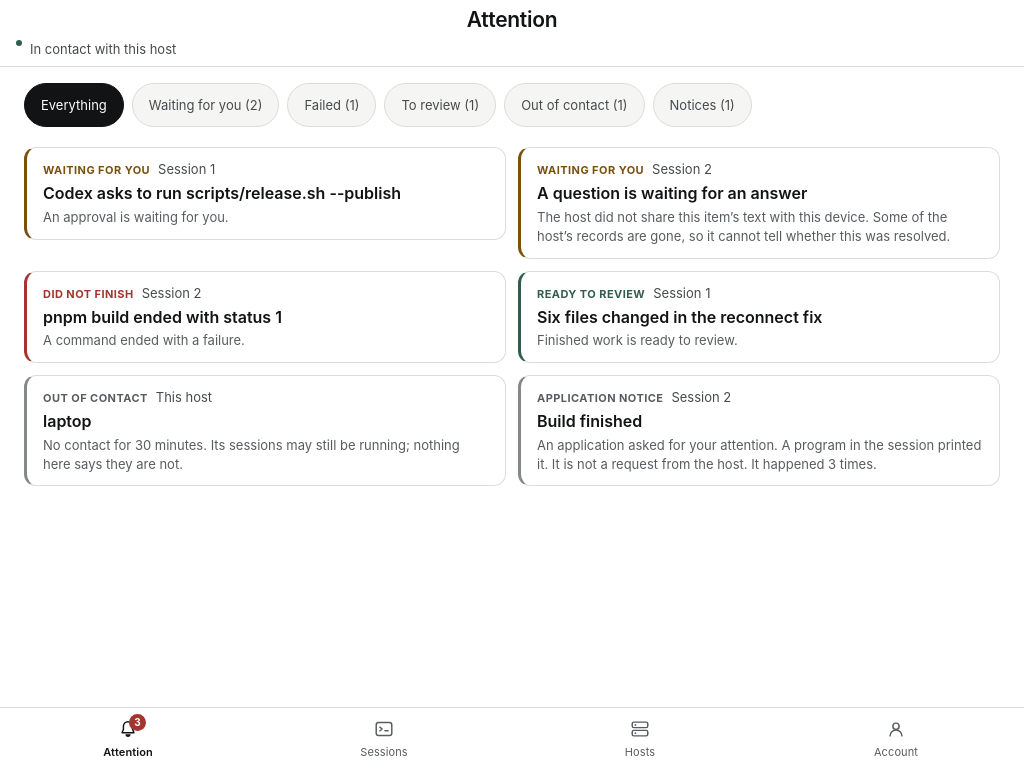
it: a draft that came back is bound again when the host has said where it stands (KR-ACC-012) › keeps what was typed while the host was being asked
The width and height of the screenshot is (1024, 768).
Step 1. Click the button "Sessions" → click(384, 738), box [256, 708, 512, 767]
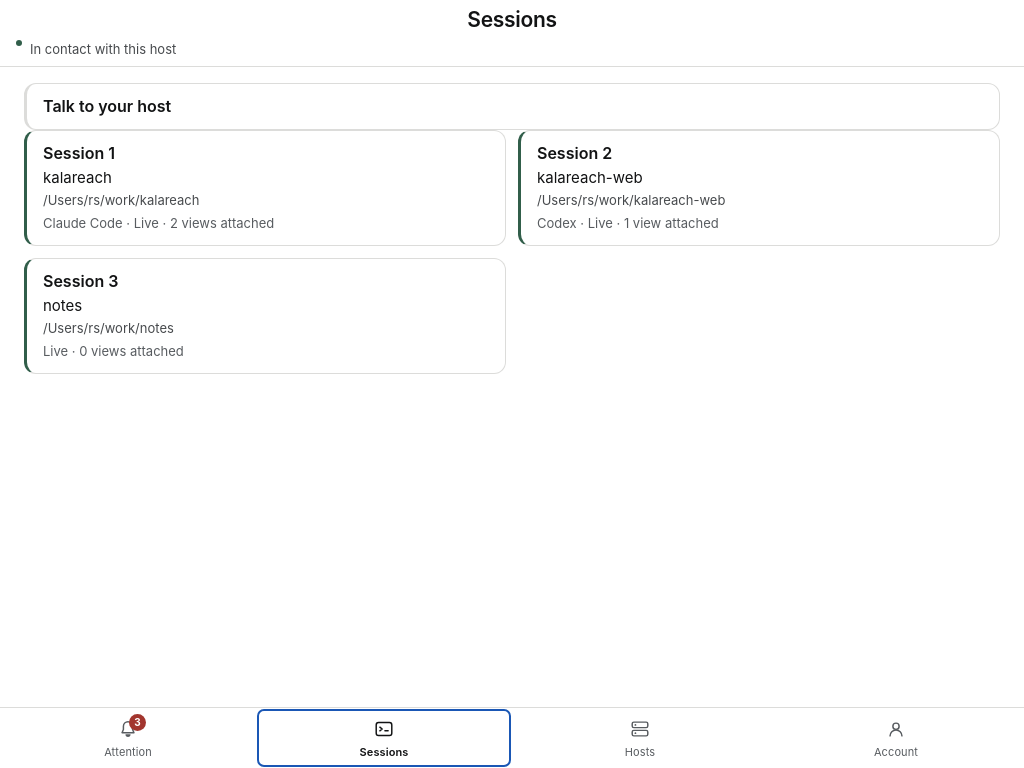
Step 2. Click the button "Session 1" → click(79, 153), box [24, 130, 506, 246]
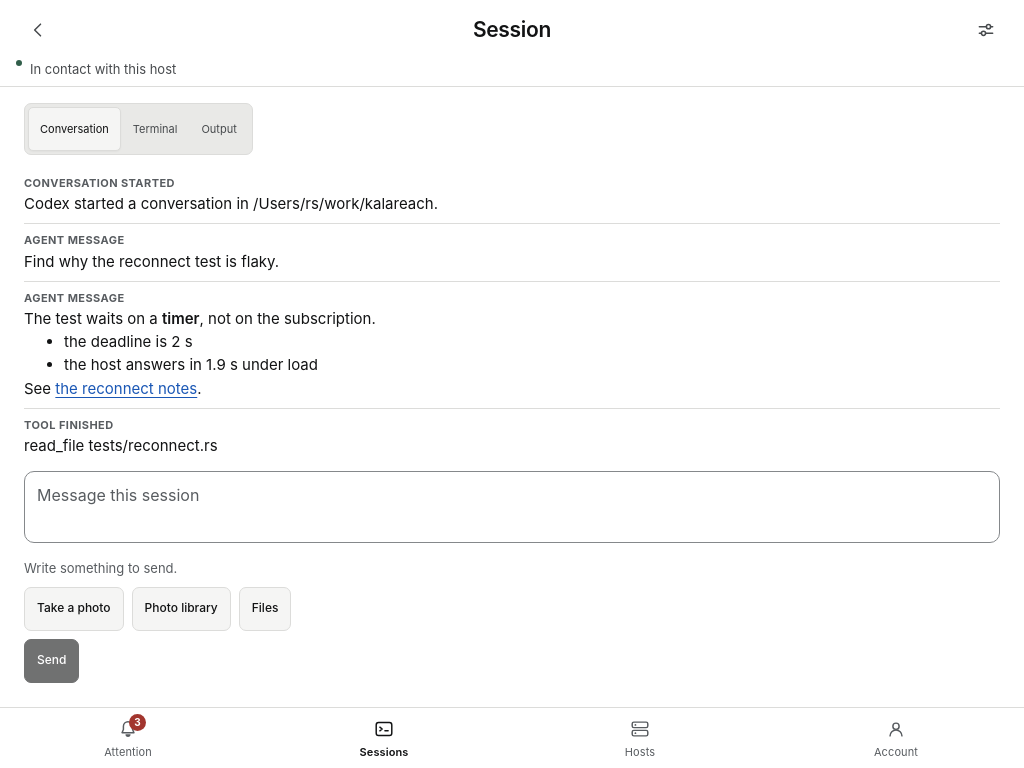
Step 3. Type "before" into the text box labelled "Message this session" → (512, 507), box [24, 471, 1000, 543]
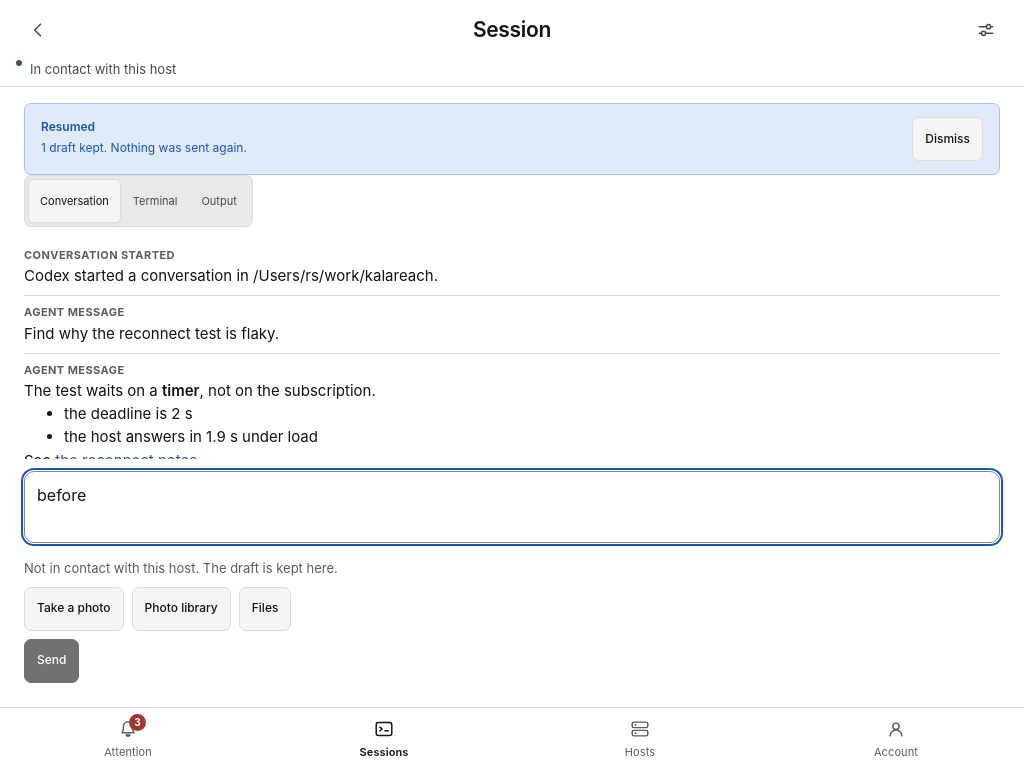
Step 4. Type " and after" into the text box named "Message this session" → (512, 507), box [24, 471, 1000, 543]
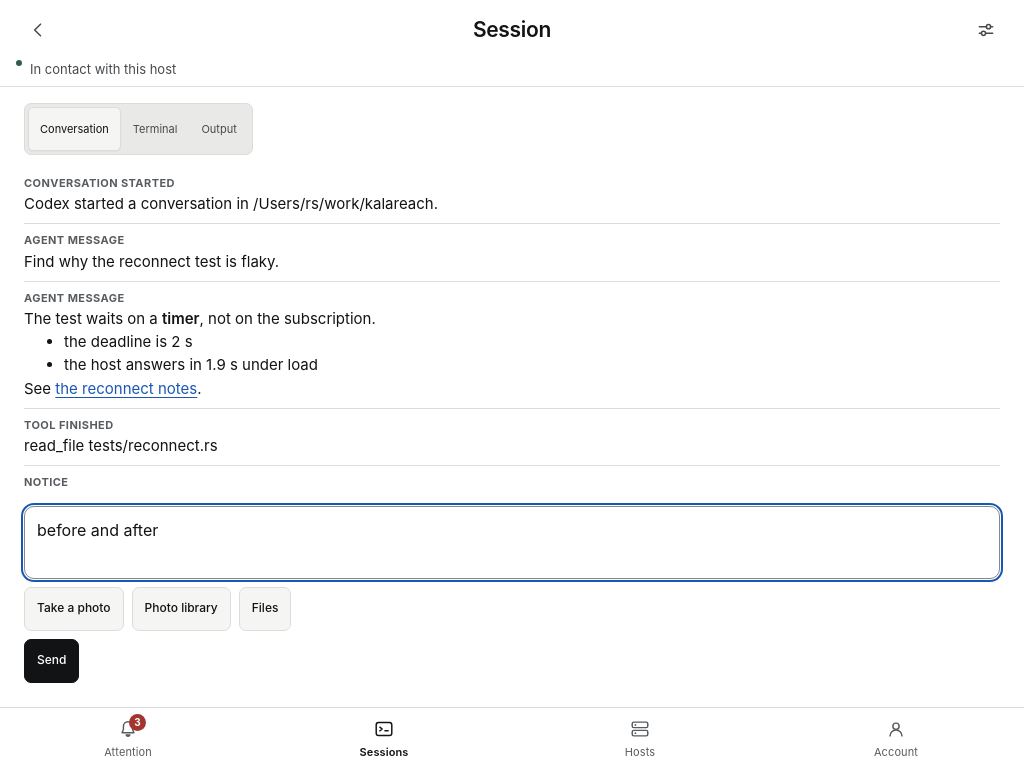
Now the button "Send" is enabled, box [24, 638, 79, 682]
Now the text box named "Message this session" holds "before and after", box [24, 506, 1000, 578]
